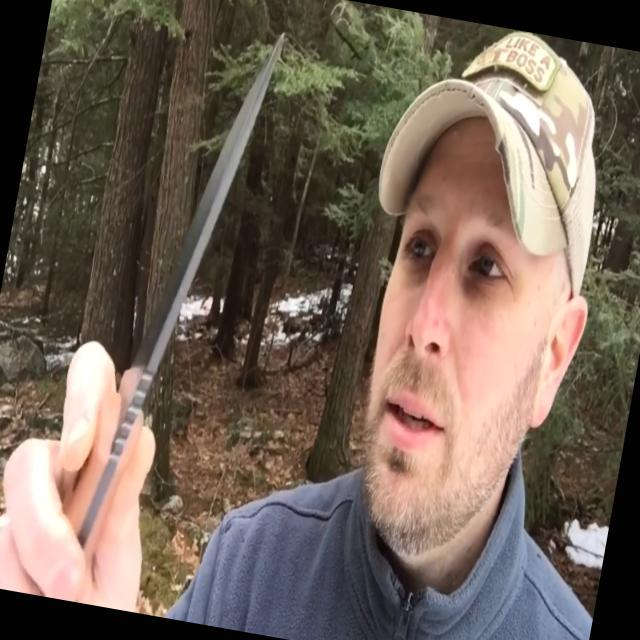knife: (41, 0, 294, 538)
